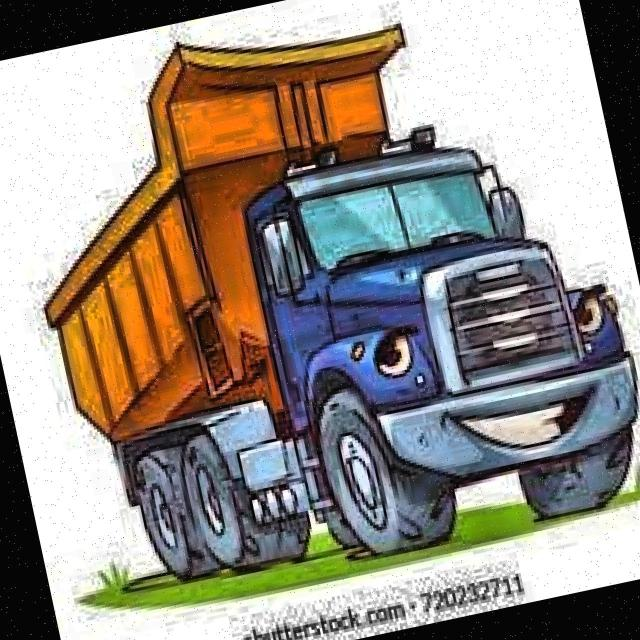dump_truck: (0, 0, 640, 630)
